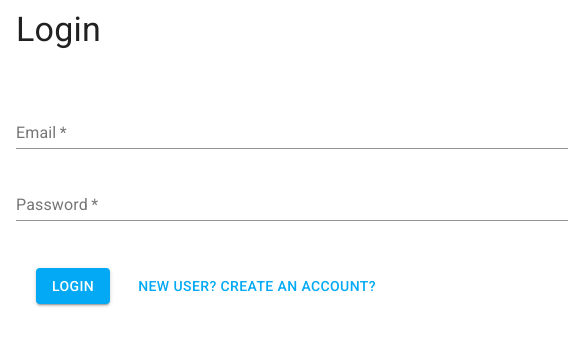
Test: <Login /> displays error when login unsuccessful
Type "ryan@gmail.com" into the field labelled "Email" at (292,133), box left=16, top=117, right=568, bottom=149
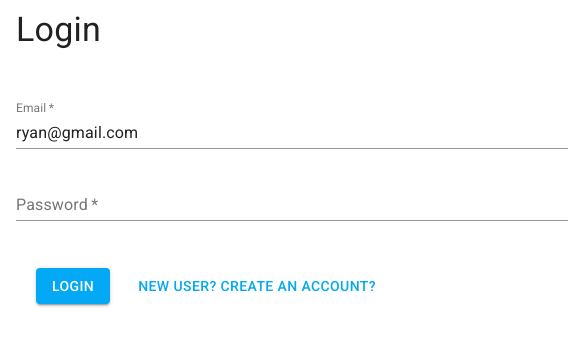
Type "password" into the password field labelled "Password" at (292,205), box left=16, top=189, right=568, bottom=221
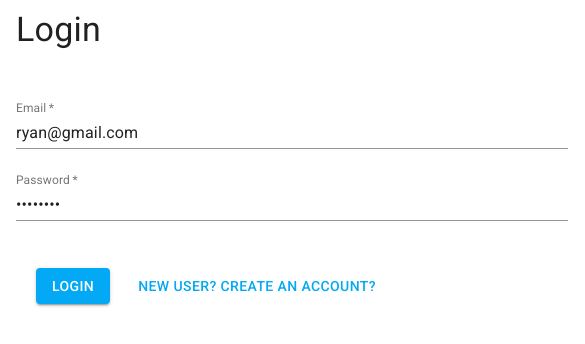
Click the button "Login" at (73,286), box left=36, top=268, right=110, bottom=304
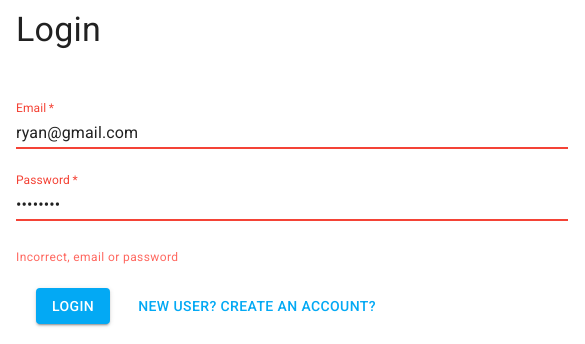
Now the text "Incorrect, email or password" is shown, box left=16, top=250, right=178, bottom=264
Focus the field labelled "Email" at (292,133), box left=16, top=117, right=568, bottom=149
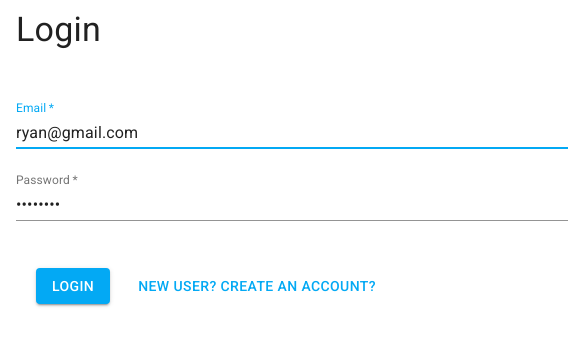
Now the text "Incorrect, email or password" is gone
